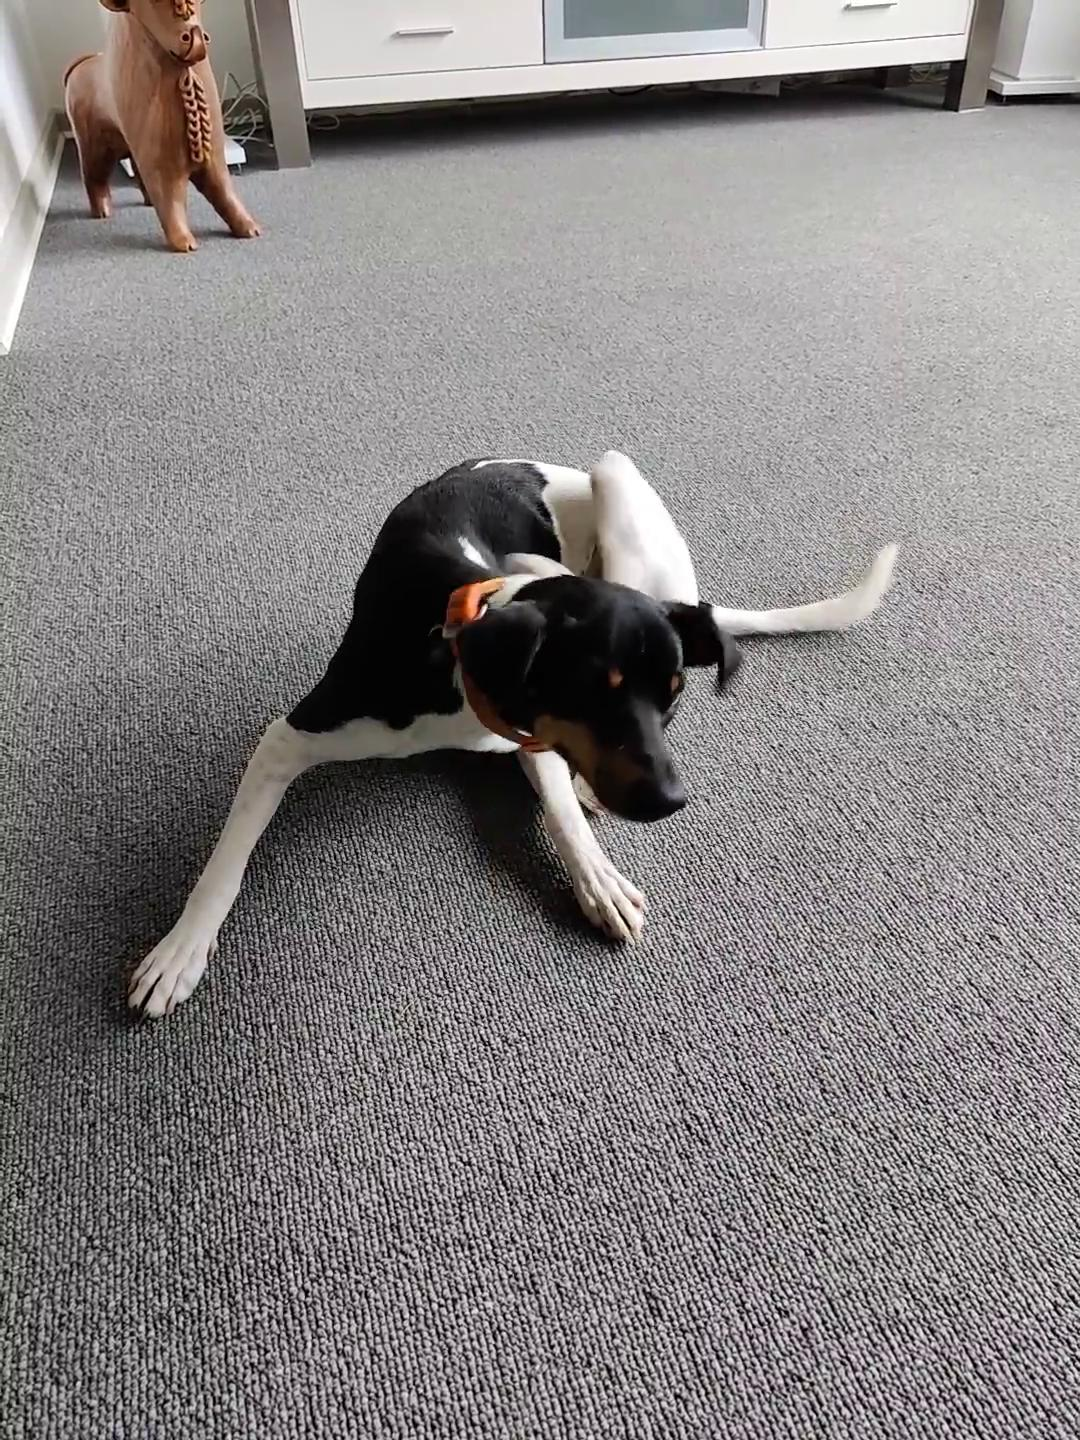Dog: (115, 438, 906, 1026)
